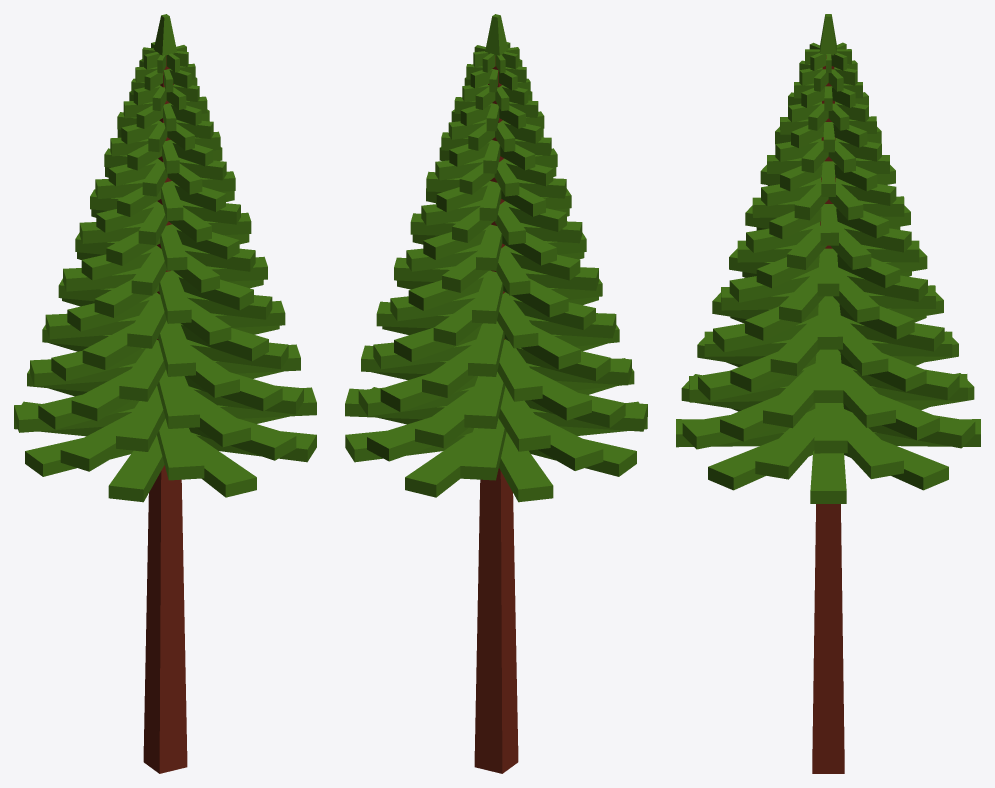
Rendered from tree2.fbx.
3 renders of one model, left to right at view 1: azimuth 30°, elevation 25°; view 2: azimuth 150°, elevation 25°; view 3: azimuth 270°, elevation 25°, orthographic.
Visible parts, largest first — view 1: tree; view 2: tree; view 3: tree.
Boxes of the visible parts, box(x1,y1,x2,y2) form: tree: box(14, 14, 316, 773); tree: box(345, 14, 647, 773); tree: box(676, 14, 980, 773).
Size of the model in its own units: 310 by 843 by 310.
